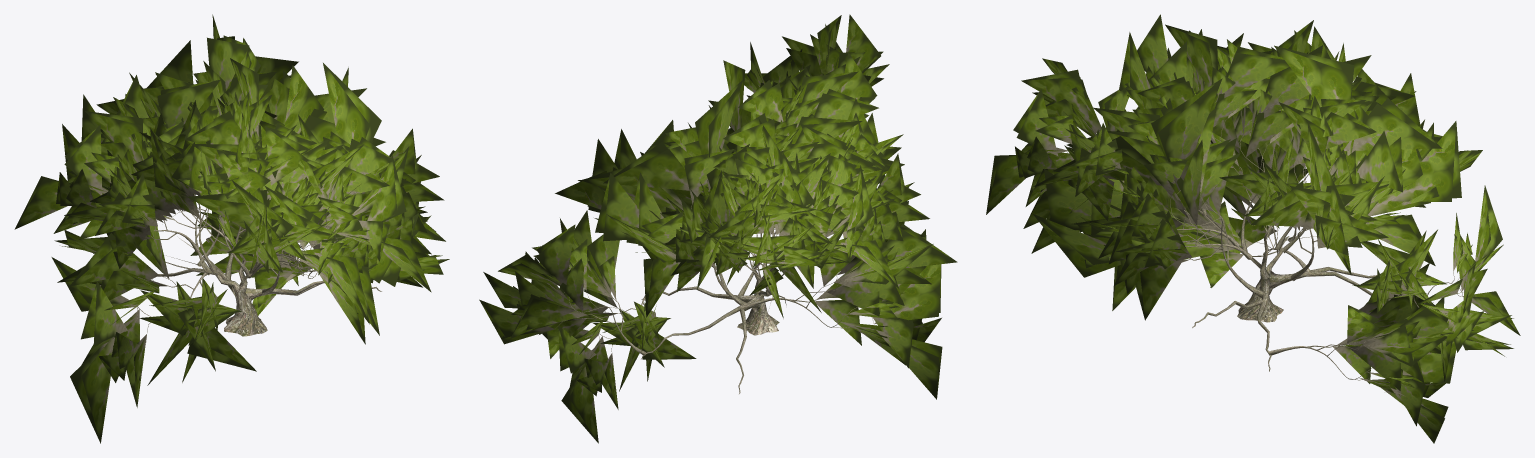
The model's file is bush2.obj.
3 renders of one model, left to right at view 1: azimuth 30°, elevation 25°; view 2: azimuth 150°, elevation 25°; view 3: azimuth 270°, elevation 25°, orthographic. The views are drawn at different scales.
Visible parts, largest first — view 1: oak leaf, mossybark03; view 2: oak leaf, mossybark03; view 3: oak leaf, mossybark03.
Boxes of the visible parts, bbox=[...] form: oak leaf: bbox=[14, 14, 449, 443]; mossybark03: bbox=[125, 137, 381, 344]; oak leaf: bbox=[479, 14, 957, 443]; mossybark03: bbox=[555, 191, 875, 393]; oak leaf: bbox=[986, 14, 1520, 443]; mossybark03: bbox=[1056, 102, 1463, 387].
Bounding box in the file's own units: 422 × 375 × 500.
Materials: 2 (2 with a texture image).
